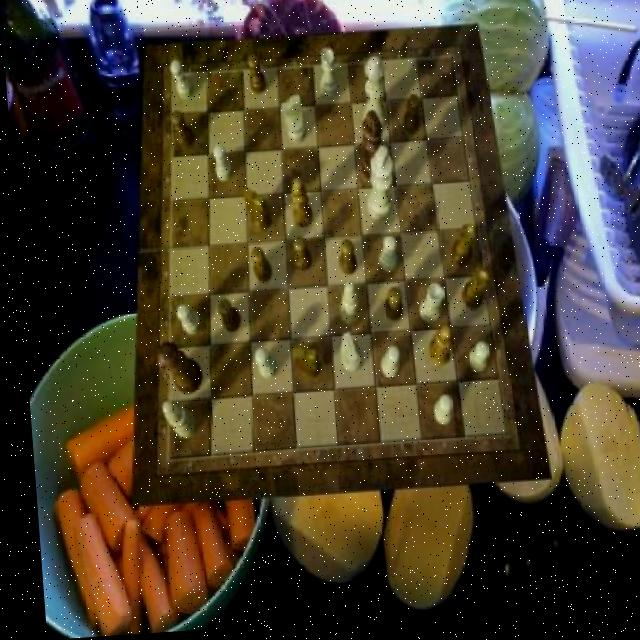bishop: (288, 181, 311, 233), (421, 332, 448, 373)
black-bishop: (355, 114, 382, 186)
black-king: (241, 191, 268, 236), (287, 349, 315, 385)
black-knight: (168, 112, 193, 152), (214, 303, 238, 338), (399, 100, 419, 140), (246, 250, 268, 286), (247, 57, 266, 98), (334, 244, 354, 281), (378, 292, 398, 327), (289, 240, 308, 275)
black-pawn: (150, 340, 197, 397)
black-queen: (456, 276, 486, 317), (447, 230, 474, 274)
black-rook: (156, 402, 192, 442), (335, 285, 357, 330)
white-bishop: (361, 149, 392, 225)
white-king: (281, 98, 306, 147), (333, 336, 358, 378)
white-knight: (169, 63, 194, 104), (170, 306, 196, 339), (374, 239, 394, 277), (211, 146, 231, 184), (249, 352, 272, 385), (374, 351, 396, 385), (462, 347, 484, 380), (426, 399, 448, 431)
white-pawn: (357, 60, 388, 139)
white-queen: (414, 289, 442, 330), (318, 52, 338, 104)
